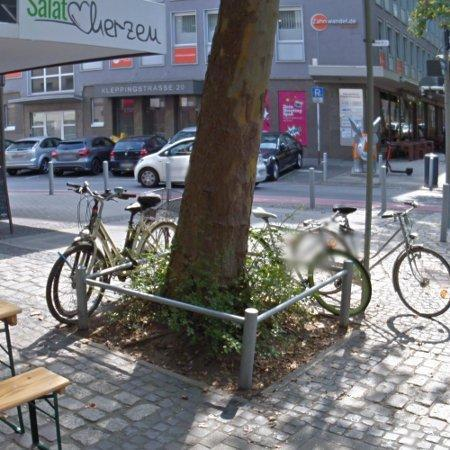bicycles: (395, 247, 450, 318)
